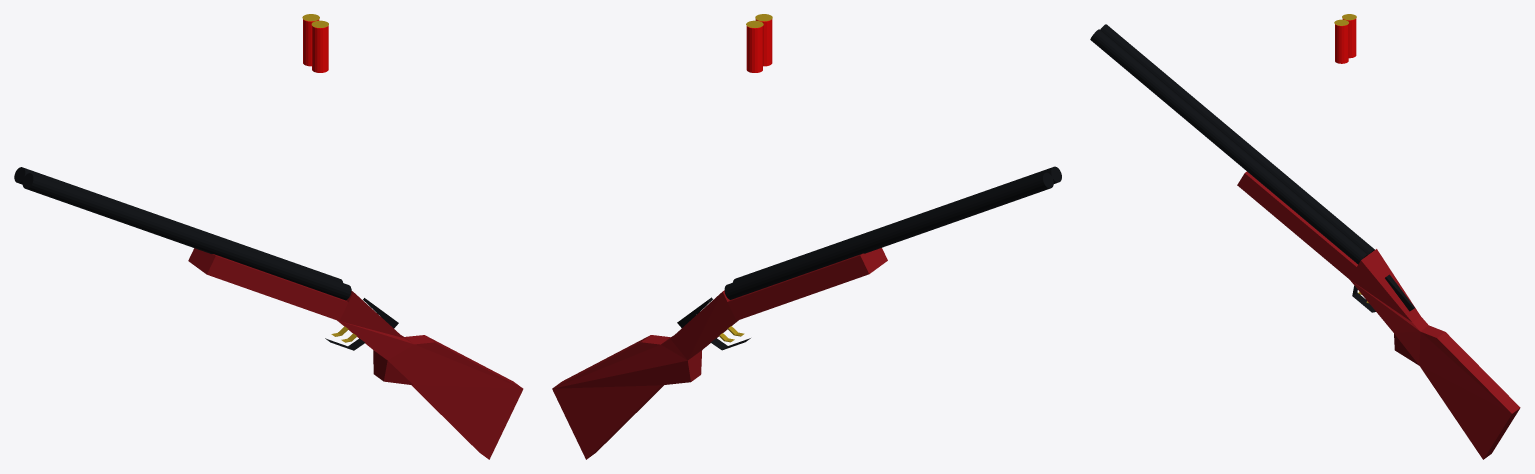
File: double-barreled-shotgun0003.obj
3 renders of one model, left to right at view 1: azimuth 30°, elevation 25°; view 2: azimuth 150°, elevation 25°; view 3: azimuth 330°, elevation 25°, orthographic. The views are drawn at different scales.
Parts seen in each view (by area): view 1: rearStock, leftBarrel, foreGrip, rightBarrel, shellPlastic; view 2: rearStock, rightBarrel, foreGrip, leftBarrel, shellPlastic2; view 3: rearStock, leftBarrel, rightBarrel, foreGrip, shellPlastic.
Part boxes in pixels (x1=…): rearStock: x1=337, y1=291, x2=523, y2=459; leftBarrel: x1=22, y1=173, x2=351, y2=300; foreGrip: x1=188, y1=248, x2=348, y2=320; rightBarrel: x1=14, y1=167, x2=342, y2=282; shellPlastic: x1=312, y1=26, x2=328, y2=72; rearStock: x1=552, y1=290, x2=738, y2=459; rightBarrel: x1=724, y1=172, x2=1053, y2=299; foreGrip: x1=727, y1=248, x2=887, y2=320; leftBarrel: x1=733, y1=166, x2=1061, y2=282; shellPlastic2: x1=746, y1=26, x2=762, y2=72; rearStock: x1=1349, y1=249, x2=1520, y2=459; leftBarrel: x1=1090, y1=29, x2=1367, y2=264; rightBarrel: x1=1100, y1=24, x2=1374, y2=254; foreGrip: x1=1237, y1=171, x2=1357, y2=278; shellPlastic: x1=1335, y1=24, x2=1348, y2=63.
Size of the model in its own units: 3.15 by 2.88 by 0.2057.
